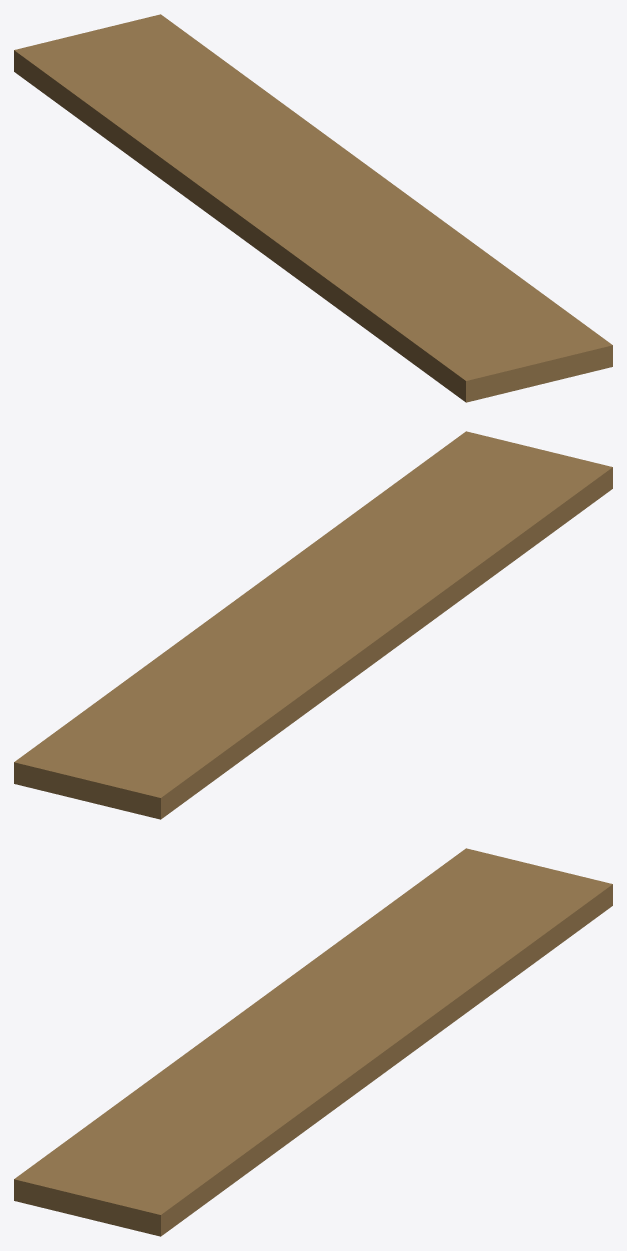
The model's file is BoxCover.fbx.
3 renders of one model, top to bottom at view 1: azimuth 30°, elevation 25°; view 2: azimuth 150°, elevation 25°; view 3: azimuth 330°, elevation 25°, orthographic.
Parts seen in each view (by area): view 1: Cube.007; view 2: Cube.007; view 3: Cube.007.
Boxes of the visible parts, x1=… form: Cube.007: x1=14, y1=14, x2=612, y2=402; Cube.007: x1=14, y1=431, x2=612, y2=819; Cube.007: x1=14, y1=848, x2=612, y2=1236.
Bounding box in the file's own units: 6 × 0.844 × 32.
